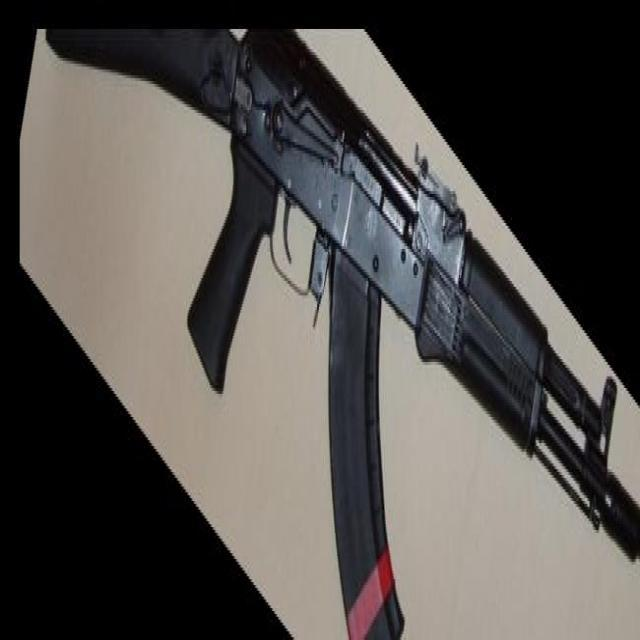weapon: (48, 24, 640, 640)
